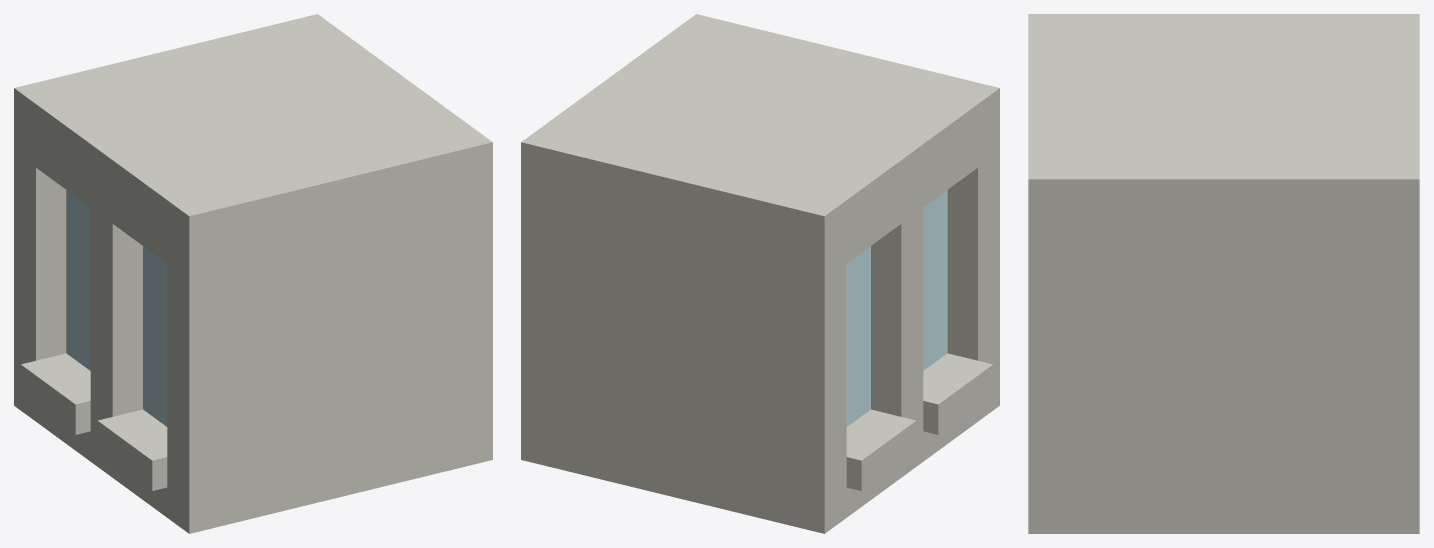
File: Building Story 12.fbx
3 views of the same model, side by side, from view 1: azimuth 30°, elevation 25°; view 2: azimuth 150°, elevation 25°; view 3: azimuth 270°, elevation 25° (orthographic). The views are drawn at different scales.
Visible parts, largest first — view 1: Building Story 12; view 2: Building Story 12; view 3: Building Story 12.
Part boxes in pixels (left/top/right/bottom): Building Story 12: left=14, top=14, right=492, bottom=533; Building Story 12: left=521, top=14, right=999, bottom=533; Building Story 12: left=1028, top=14, right=1419, bottom=533.
Bounding box in the file's own units: 1.05 × 1 × 1.
